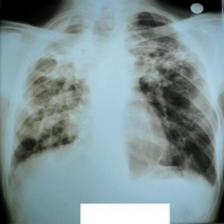tuberculosis: (7, 12, 218, 197)
